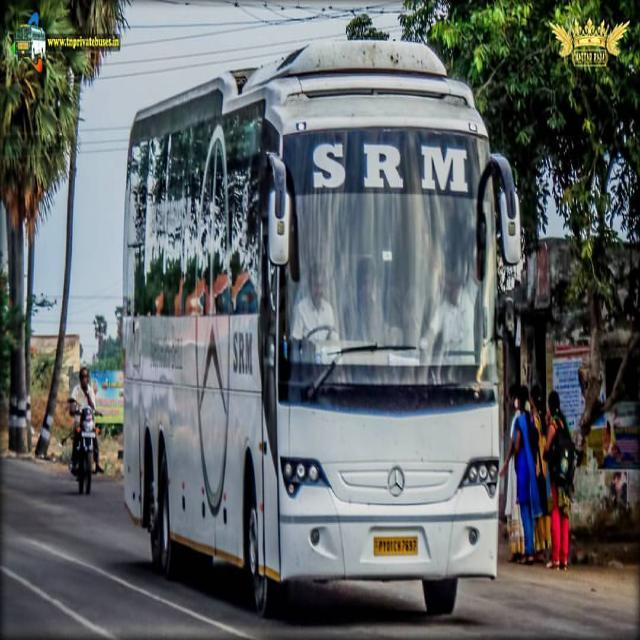Bus: (120, 28, 520, 622)
